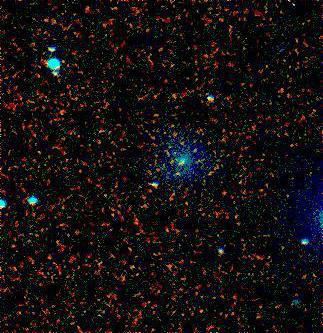star: (265, 34, 295, 64)
